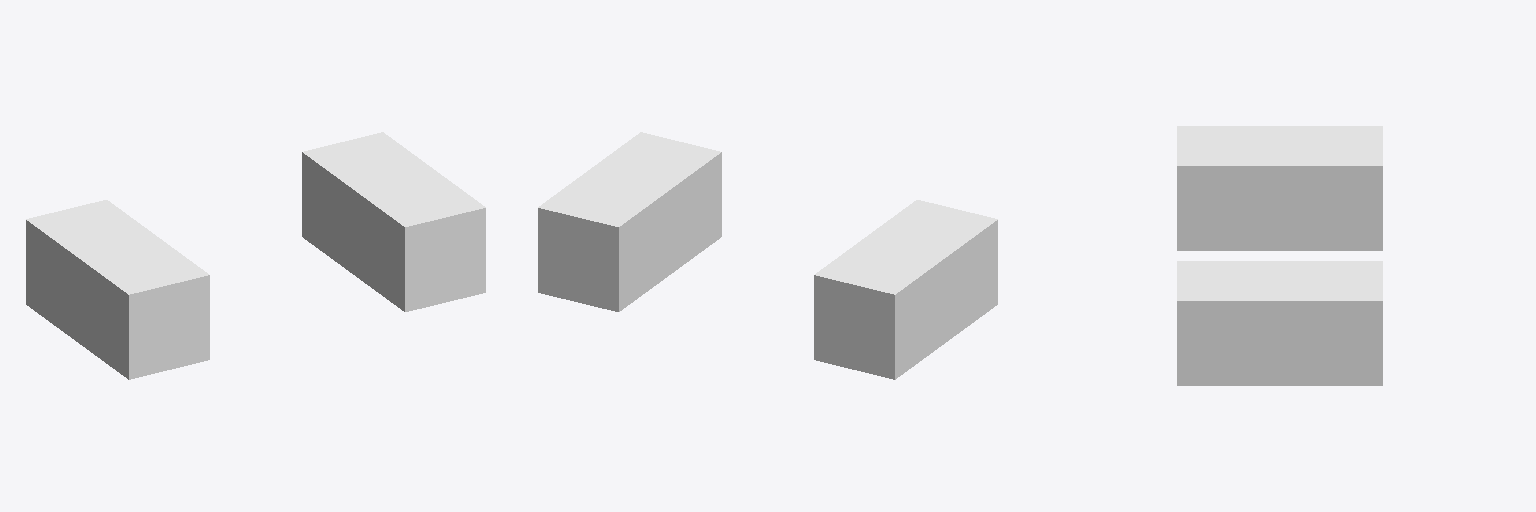
Rendered from DoorWallsFilled.obj.
The picture shows the model from 3 angles: view 1: azimuth 30°, elevation 25°; view 2: azimuth 150°, elevation 25°; view 3: azimuth 270°, elevation 25°; orthographic projection.
Bounding box in the file's own units: 44 × 10 × 22.